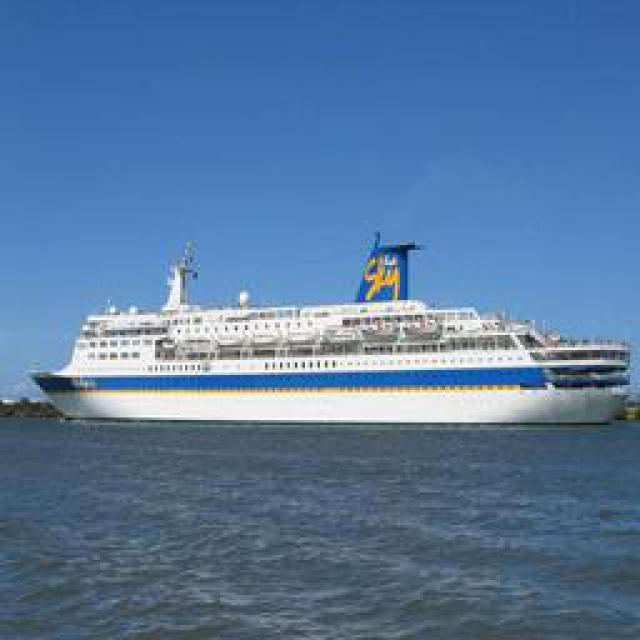Ship: (21, 234, 624, 429)
